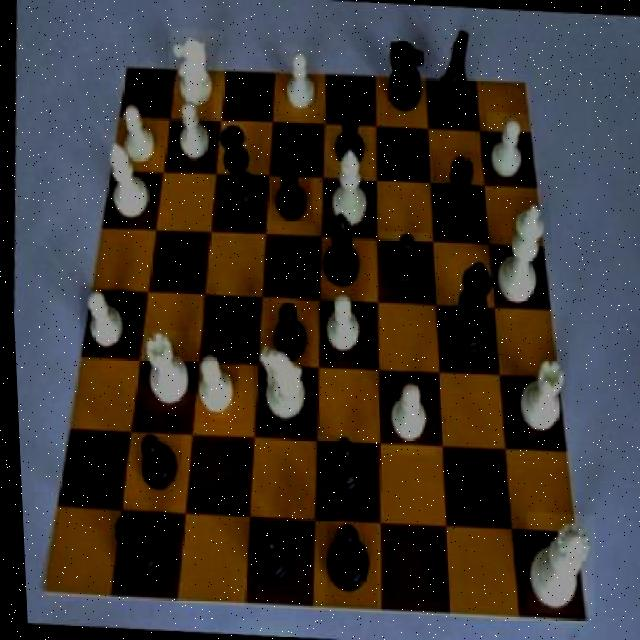bishop: (316, 522, 375, 610), (312, 214, 372, 294)
black-bishop: (438, 251, 495, 371)
black-king: (428, 21, 486, 117), (381, 32, 433, 122)
black-knight: (312, 429, 371, 507), (127, 424, 183, 504), (320, 99, 375, 178), (241, 524, 297, 600), (204, 292, 259, 365), (374, 231, 429, 298), (269, 151, 316, 223), (263, 296, 312, 364)
black-pawn: (207, 122, 268, 228)
black-queen: (102, 508, 169, 590), (427, 149, 487, 237)
black-rook: (96, 137, 159, 228), (322, 144, 373, 230)
white-bishop: (484, 196, 552, 312)
white-king: (245, 335, 310, 433), (166, 28, 226, 120)
white-knight: (375, 372, 435, 457), (74, 286, 133, 362), (166, 92, 217, 172), (112, 101, 163, 178), (189, 350, 240, 426), (482, 112, 531, 188), (315, 288, 363, 362), (277, 46, 326, 114)
white-pawn: (516, 512, 593, 617)
white-queen: (504, 348, 570, 443), (131, 329, 191, 414)
